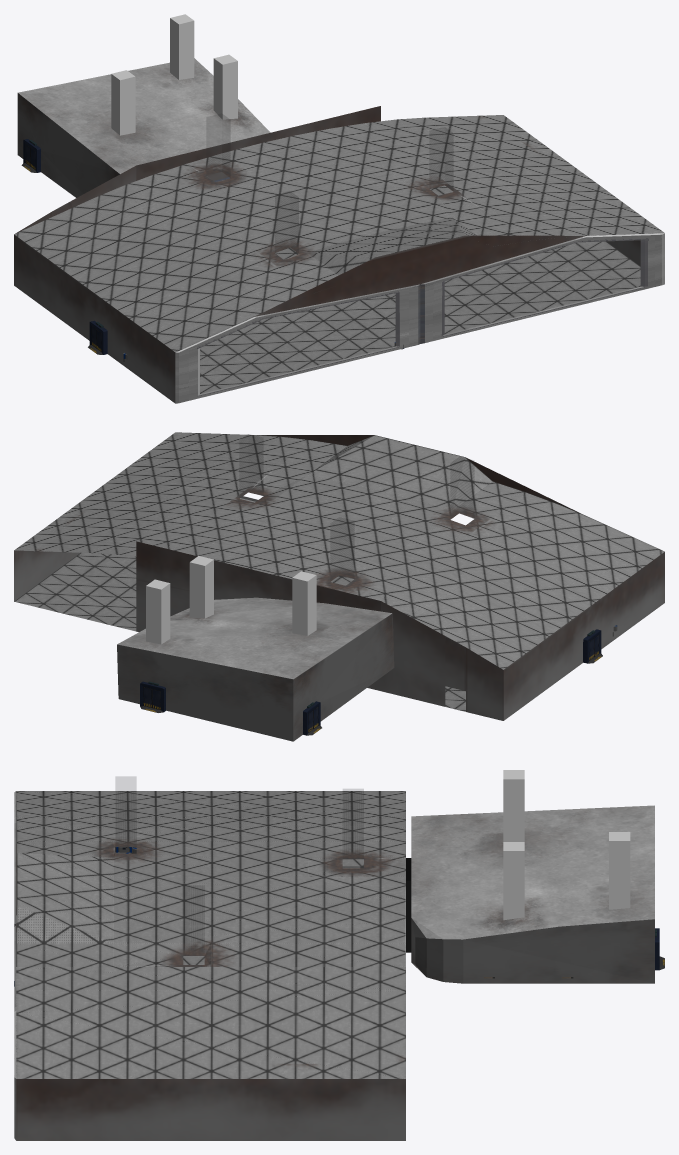
The model's file is SalaMenu1.obj.
3 renders of one model, top to bottom at view 1: azimuth 30°, elevation 25°; view 2: azimuth 150°, elevation 25°; view 3: azimuth 270°, elevation 25°, orthographic. The views are drawn at different scales.
Parts seen in each view (by area): view 1: Nave.002_Borde.002_Cube.002, Sala_Lanzamiento_Cube.002, DoorFrame.003_Cube.001; view 2: Nave.002_Borde.002_Cube.002, Sala_Lanzamiento_Cube.002, DoorFrame.001_Cube.001, DoorFrame.003_Cube.001, DoorFrame.002_Cube.001; view 3: Nave.002_Borde.002_Cube.002, Sala_Lanzamiento_Cube.002.
Boxes of the visible parts, <box> form: Nave.002_Borde.002_Cube.002: <box>14,106,664,403</box>; Sala_Lanzamiento_Cube.002: <box>17,14,270,197</box>; DoorFrame.003_Cube.001: <box>88,320,107,354</box>; Nave.002_Borde.002_Cube.002: <box>14,432,664,720</box>; Sala_Lanzamiento_Cube.002: <box>117,556,394,741</box>; DoorFrame.001_Cube.001: <box>140,681,165,712</box>; DoorFrame.003_Cube.001: <box>583,629,602,663</box>; DoorFrame.002_Cube.001: <box>303,701,321,735</box>; Nave.002_Borde.002_Cube.002: <box>14,777,405,1140</box>; Sala_Lanzamiento_Cube.002: <box>406,770,654,983</box>.
Size of the model in its own units: 142 by 38.26 by 134.
Materials: 39 (33 with a texture image).
